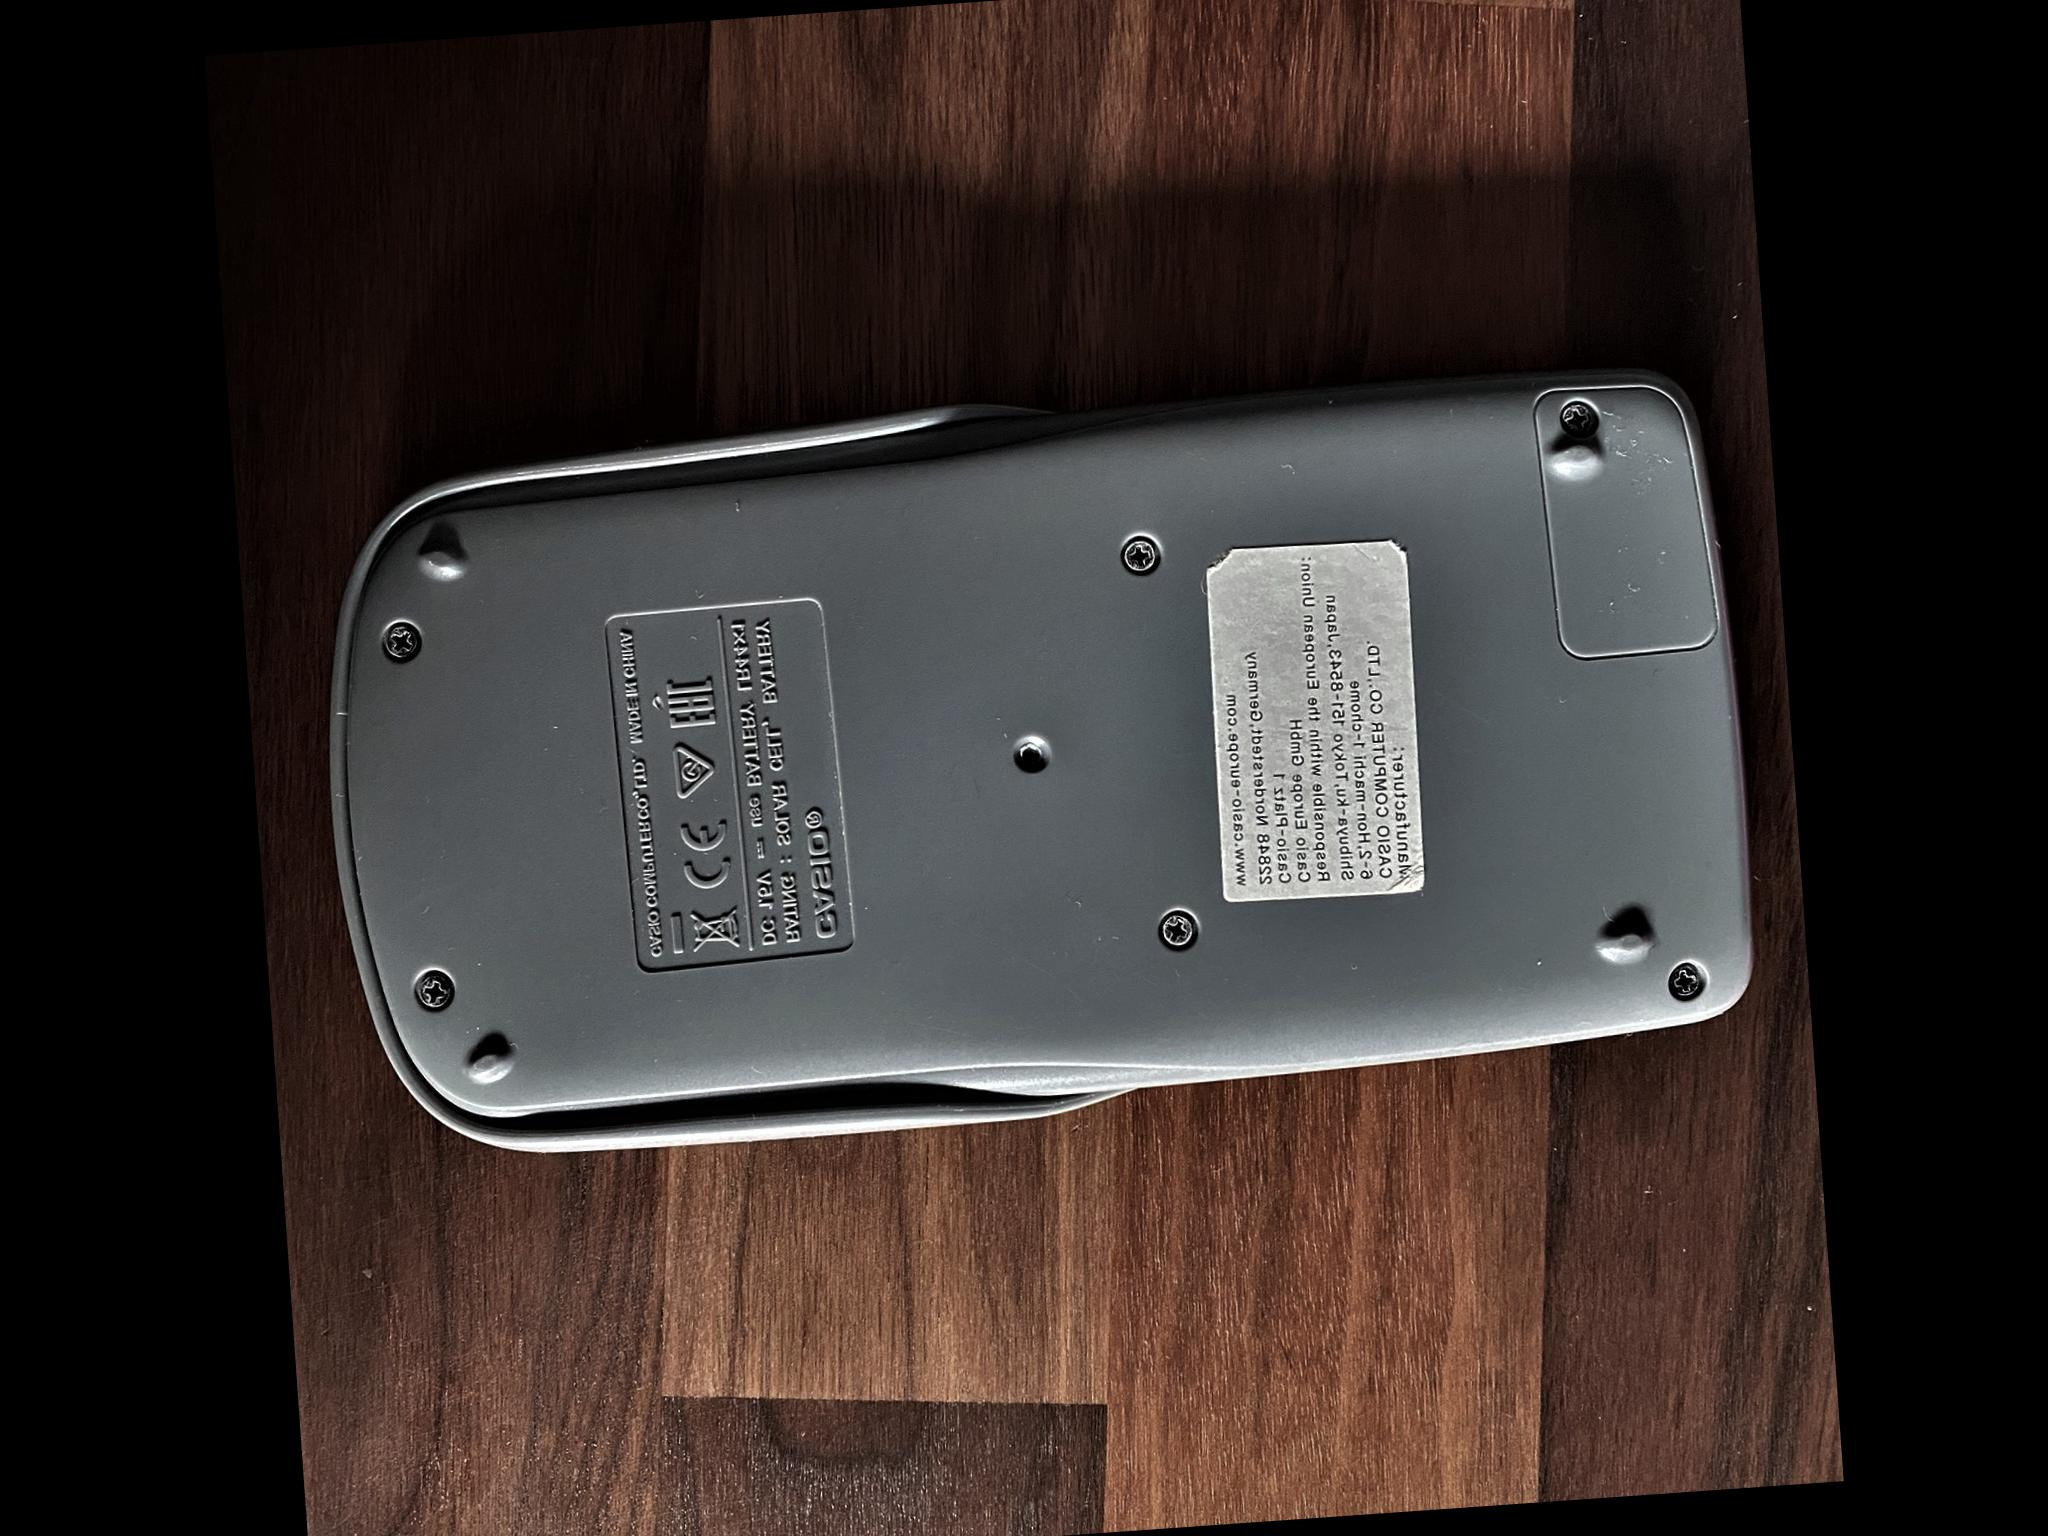PH: (1155, 905, 1201, 947), (381, 620, 424, 663), (413, 970, 455, 1013), (1119, 534, 1163, 573), (1553, 395, 1600, 431), (1667, 963, 1706, 1002)
